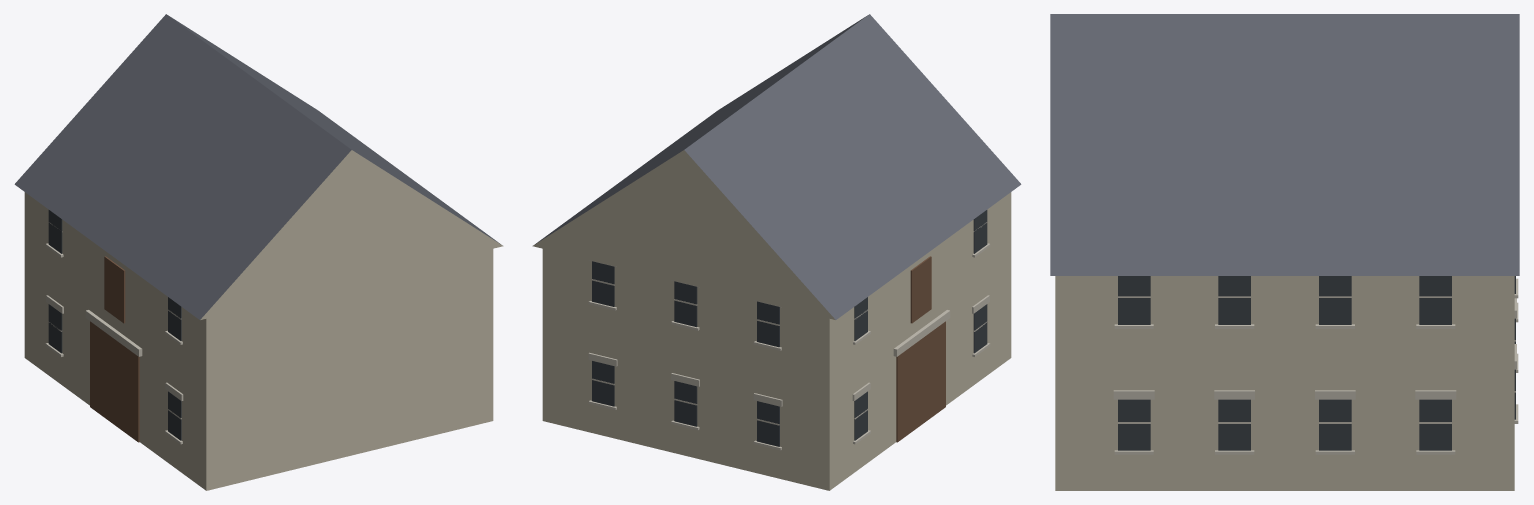
File: house_1619_indiana_coach_house__draft_1904.glb
The picture shows the model from 3 angles, left to right: view 1: azimuth 30°, elevation 25°; view 2: azimuth 150°, elevation 25°; view 3: azimuth 270°, elevation 25°; orthographic projection. The views are drawn at different scales.
Parts seen in each view (by area): view 1: house_1619_indiana_coach_house__draft_1904; view 2: house_1619_indiana_coach_house__draft_1904; view 3: house_1619_indiana_coach_house__draft_1904.
Part boxes in pixels (<box>): house_1619_indiana_coach_house__draft_1904: <box>14,14,503,490</box>; house_1619_indiana_coach_house__draft_1904: <box>532,14,1021,490</box>; house_1619_indiana_coach_house__draft_1904: <box>1050,14,1519,490</box>.
Size of the model in its own units: 10.85 by 10.5 by 11.49.
